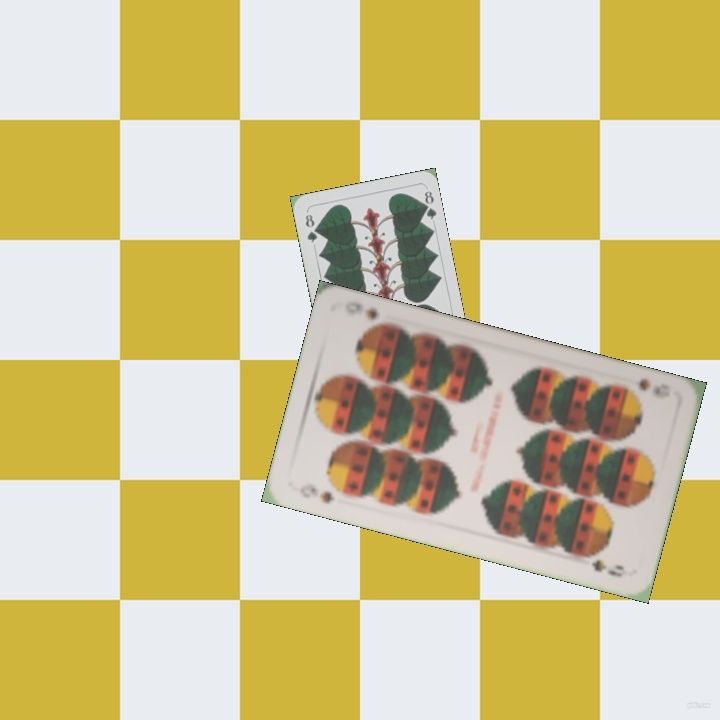G8: (301, 210, 320, 245)
S9: (295, 479, 337, 506), (617, 374, 653, 397)
